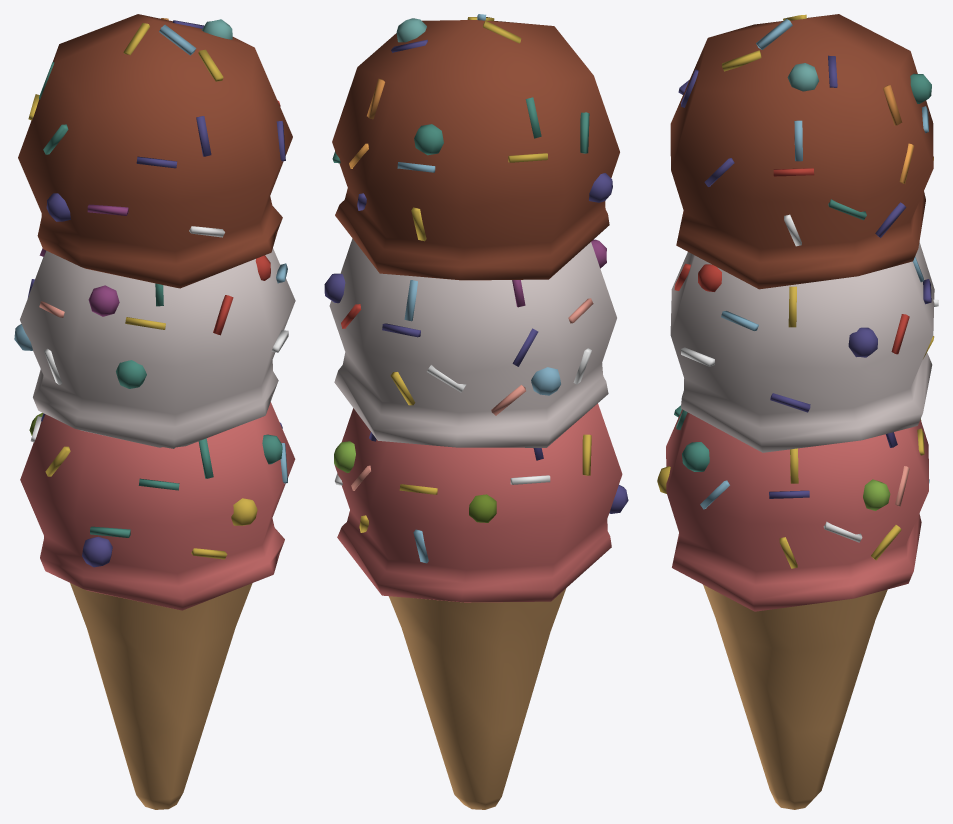
Rendered from IceCream_Visual.fbx.
3 renders of one model, left to right at view 1: azimuth 30°, elevation 25°; view 2: azimuth 150°, elevation 25°; view 3: azimuth 270°, elevation 25°, orthographic.
Parts seen in each view (by area): view 1: IceCream; view 2: IceCream; view 3: IceCream.
Part boxes in pixels (bbox=[...]): IceCream: bbox=[14, 14, 295, 809]; IceCream: bbox=[324, 14, 628, 809]; IceCream: bbox=[657, 14, 938, 809].
Size of the model in its own units: 7.02 by 22.02 by 7.12.
